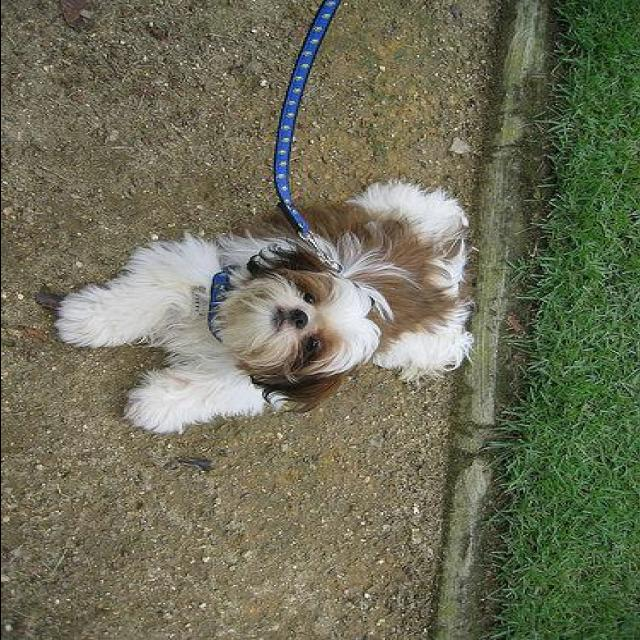shih_tzu: (49, 176, 480, 432)
